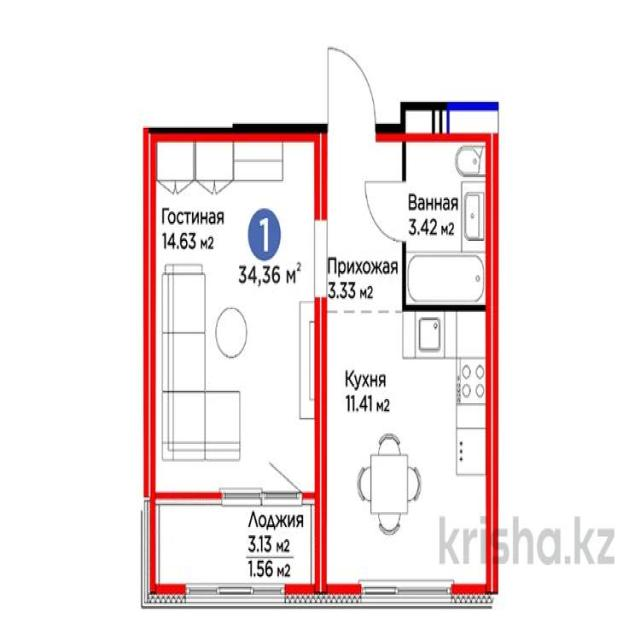balcony: (149, 499, 313, 591)
bathroom: (403, 133, 494, 310)
hallway: (326, 132, 405, 313)
kitchen: (322, 312, 494, 593)
living_room: (150, 135, 322, 496)
